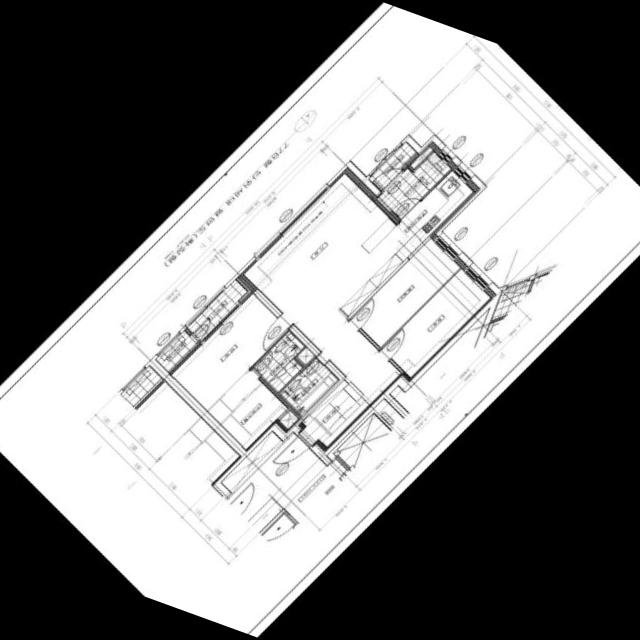background: (0, 2, 640, 638)
space_balconi: (376, 152, 450, 221), (186, 280, 246, 341)
space_bedroom: (169, 291, 288, 411), (350, 238, 459, 347), (381, 269, 490, 378)
space_dressroom: (207, 370, 287, 452)
space_elevator: (326, 399, 403, 476)
space_elevator_hall: (251, 433, 341, 523)
space_front: (297, 377, 363, 447)
space_kitchen: (324, 171, 480, 319)
space_living_room: (237, 167, 400, 402)
space_other: (221, 431, 293, 500), (316, 398, 370, 452), (369, 142, 416, 192), (408, 141, 437, 169), (276, 410, 299, 433), (296, 347, 314, 365)
space_outdoor_room: (155, 331, 196, 372)
space_toilet: (278, 357, 338, 417), (252, 331, 305, 393)
